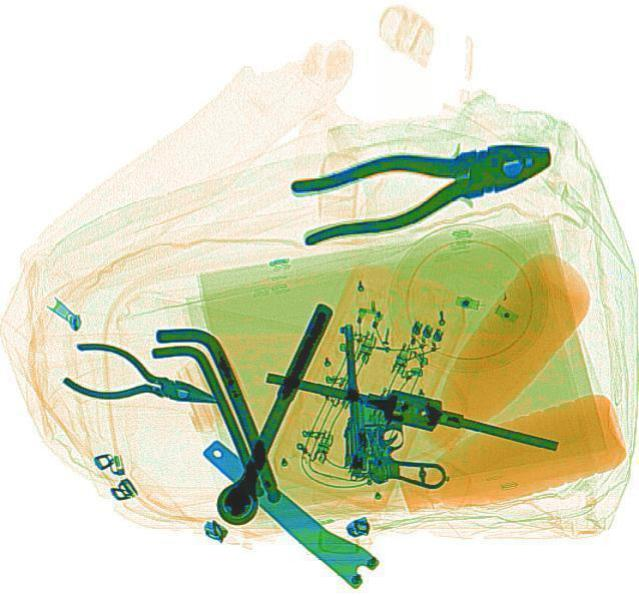Gun: (332, 317, 443, 491)
Pliers: (282, 118, 561, 249), (57, 334, 222, 425)
